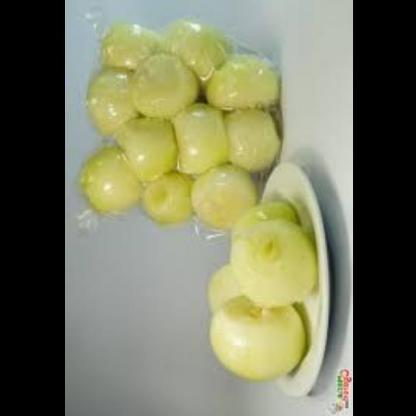onion: (81, 36, 276, 232), (200, 295, 304, 384), (229, 221, 317, 317), (199, 262, 251, 325), (230, 202, 302, 241)
